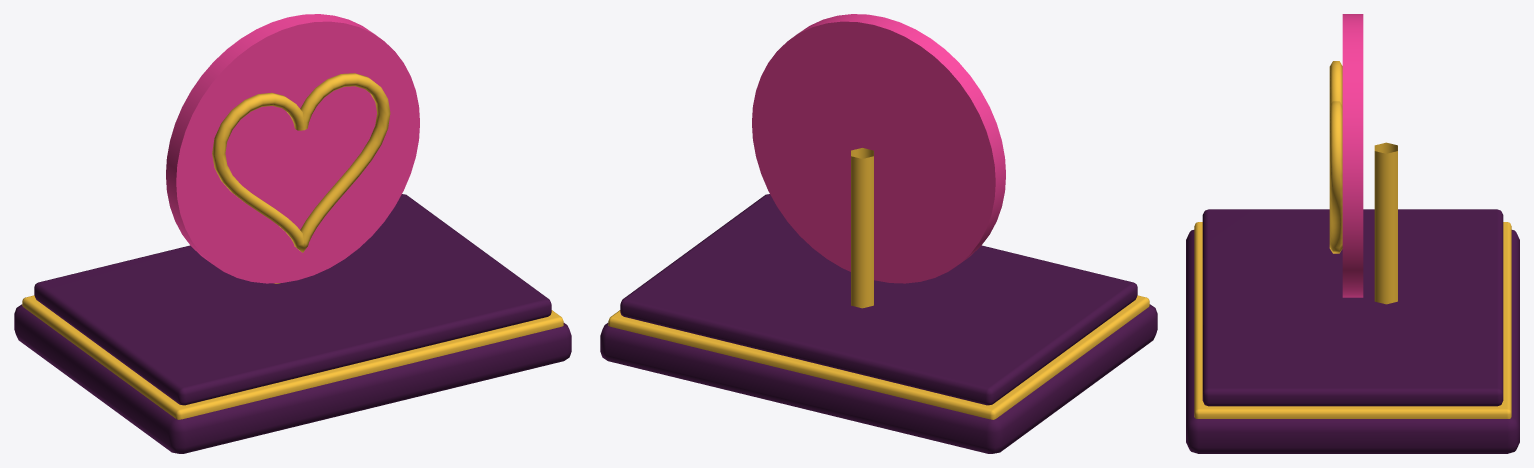
The model's file is chess.insignia.heart.glb.
3 renders of one model, left to right at view 1: azimuth 30°, elevation 25°; view 2: azimuth 150°, elevation 25°; view 3: azimuth 270°, elevation 25°, orthographic.
Parts seen in each view (by area): view 1: display_top, insignia_disc, display_base, brass_band, embroidered_crest; view 2: display_top, insignia_disc, display_base, brass_band, medallion_support; view 3: display_top, display_base, brass_band, insignia_disc, medallion_support, embroidered_crest.
Boxes of the visible parts, bbox=[...] form: display_top: bbox=[34, 194, 551, 405]; insignia_disc: bbox=[166, 14, 419, 283]; display_base: bbox=[14, 304, 571, 453]; brass_band: bbox=[22, 295, 563, 419]; embroidered_crest: bbox=[212, 73, 390, 252]; display_top: bbox=[620, 194, 1137, 405]; insignia_disc: bbox=[752, 14, 1005, 283]; display_base: bbox=[600, 304, 1157, 453]; brass_band: bbox=[608, 295, 1149, 419]; medallion_support: bbox=[851, 148, 873, 308]; display_top: bbox=[1202, 209, 1503, 406]; display_base: bbox=[1186, 230, 1519, 453]; brass_band: bbox=[1194, 222, 1511, 418]; insignia_disc: bbox=[1342, 14, 1363, 297]; medallion_support: bbox=[1374, 142, 1397, 304]; embroidered_crest: bbox=[1329, 61, 1342, 253].
Bounding box in the file's own units: 0.672 × 0.528 × 0.48.
